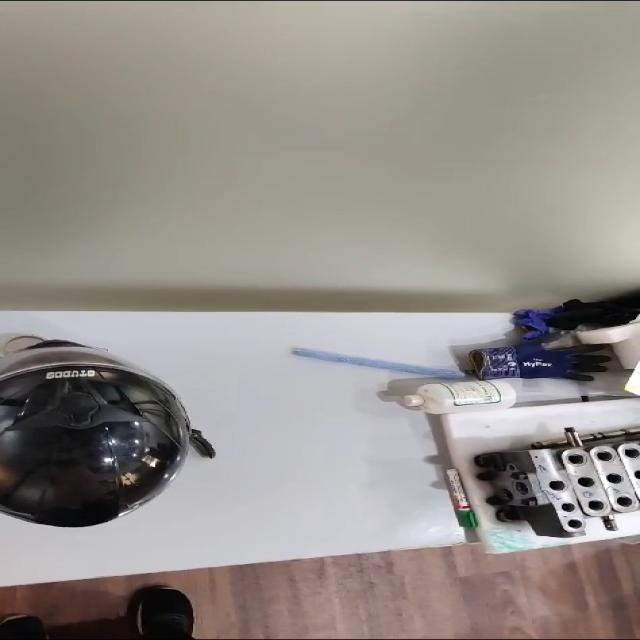helmet: (0, 335, 213, 526)
